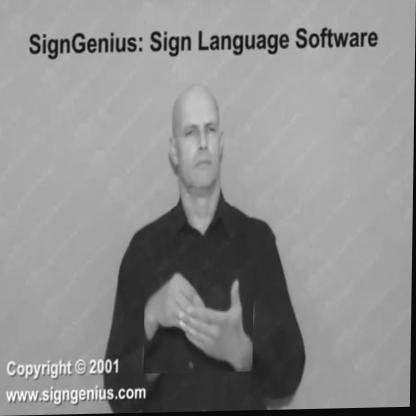Expensive: (145, 270, 255, 374)
